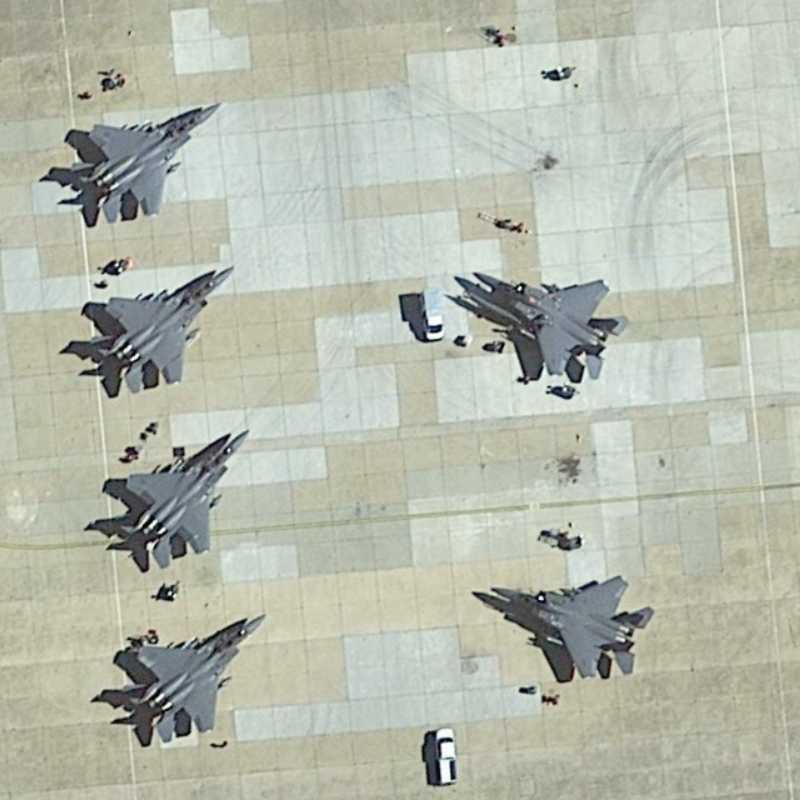A13: (117, 601, 272, 750), (81, 257, 243, 393), (66, 95, 229, 230), (106, 422, 254, 570), (465, 259, 633, 389), (483, 569, 660, 685)
